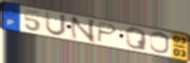5: (23, 8, 43, 33)
N: (69, 16, 98, 44)
O: (149, 32, 172, 55)
P: (95, 21, 119, 44)
Q: (125, 27, 149, 52)
U: (44, 10, 68, 38)
